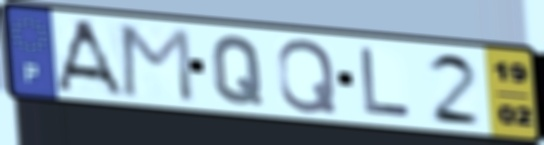2: (423, 51, 484, 128)
A: (52, 17, 129, 100)
L: (357, 44, 414, 121)
M: (118, 22, 198, 106)
Q: (274, 36, 340, 115), (209, 33, 266, 107)
